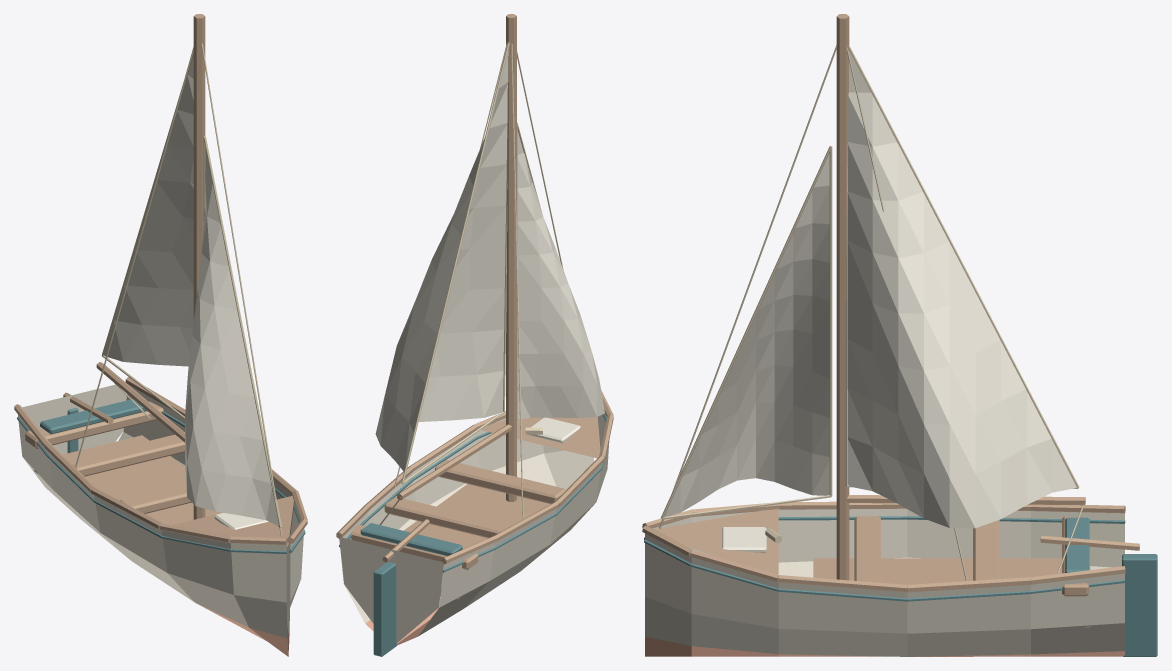
File: Sailboat.fbx
3 views of the same model, side by side, from view 1: azimuth 30°, elevation 25°; view 2: azimuth 150°, elevation 25°; view 3: azimuth 270°, elevation 25° (orthographic). The views are drawn at different scales.
Visible parts, largest first — view 1: Jib, Hull sides, Mainsail, Cockpit floor, Mast, Hull sides.001, Transom, Cross bench.001, Foredeck, Cross bench.002, Stern cushion, Sail edge.003 (+9 smaller); view 2: Mainsail, Jib, Hull sides, Hull sides.001, Transom, Mast, Cockpit floor, Cross bench, Cross bench.001, Rudder, Foredeck, Sail edge.002 (+11 smaller); view 3: Mainsail, Hull sides.001, Jib, Hull sides, Mast, Cockpit floor, Foredeck, Rudder, Cross bench, Cross bench.001, Sail edge.002, Sail edge.005 (+11 smaller).
Part boxes in pixels (box(x1,y1,x2,y2)): Jib: box(185, 147, 279, 525); Hull sides: box(18, 415, 288, 656); Mainsail: box(104, 56, 193, 366); Cockpit floor: box(34, 435, 222, 524); Mast: box(193, 14, 205, 519); Hull sides.001: box(118, 384, 304, 656); Transom: box(22, 384, 126, 454); Cross bench.001: box(68, 434, 184, 476); Foredeck: box(172, 496, 293, 543); Cross bench.002: box(25, 401, 163, 448); Stern cushion: box(40, 399, 146, 434); Sail edge.003: box(203, 136, 281, 527); Mainsail: box(375, 50, 508, 471); Jib: box(517, 131, 604, 419); Hull sides: box(397, 413, 609, 645); Hull sides.001: box(339, 418, 594, 643); Transom: box(339, 537, 443, 643); Mast: box(506, 14, 516, 501); Cockpit floor: box(404, 484, 550, 599); Cross bench: box(435, 459, 565, 503); Cross bench.001: box(384, 496, 512, 538); Rudder: box(373, 561, 396, 656); Foredeck: box(481, 417, 600, 458); Sail edge.002: box(401, 42, 509, 483); Mainsail: box(847, 51, 1076, 528); Hull sides.001: box(645, 533, 1124, 656); Jib: box(665, 153, 829, 516); Hull sides: box(652, 508, 1124, 577); Mast: box(836, 14, 849, 580); Cockpit floor: box(813, 558, 1090, 627); Foredeck: box(654, 509, 778, 574); Rudder: box(1122, 554, 1157, 656); Cross bench: box(854, 516, 880, 582); Cross bench.001: box(973, 520, 999, 580); Sail edge.002: box(848, 45, 1079, 487); Sail edge.005: box(829, 146, 832, 496).
Bounding box in the file's own units: 2.13 × 7.14 × 5.21.
